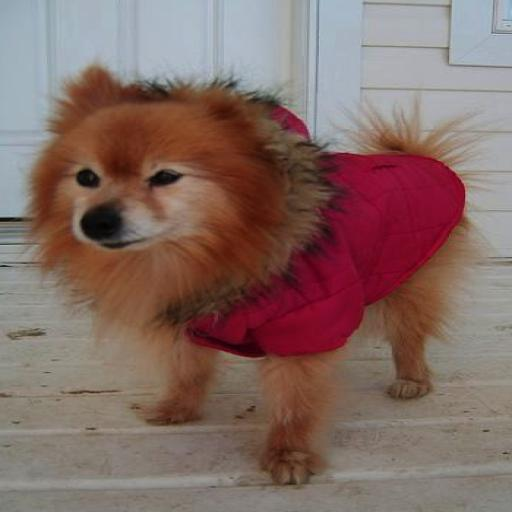dog_face: (40, 77, 254, 257)
